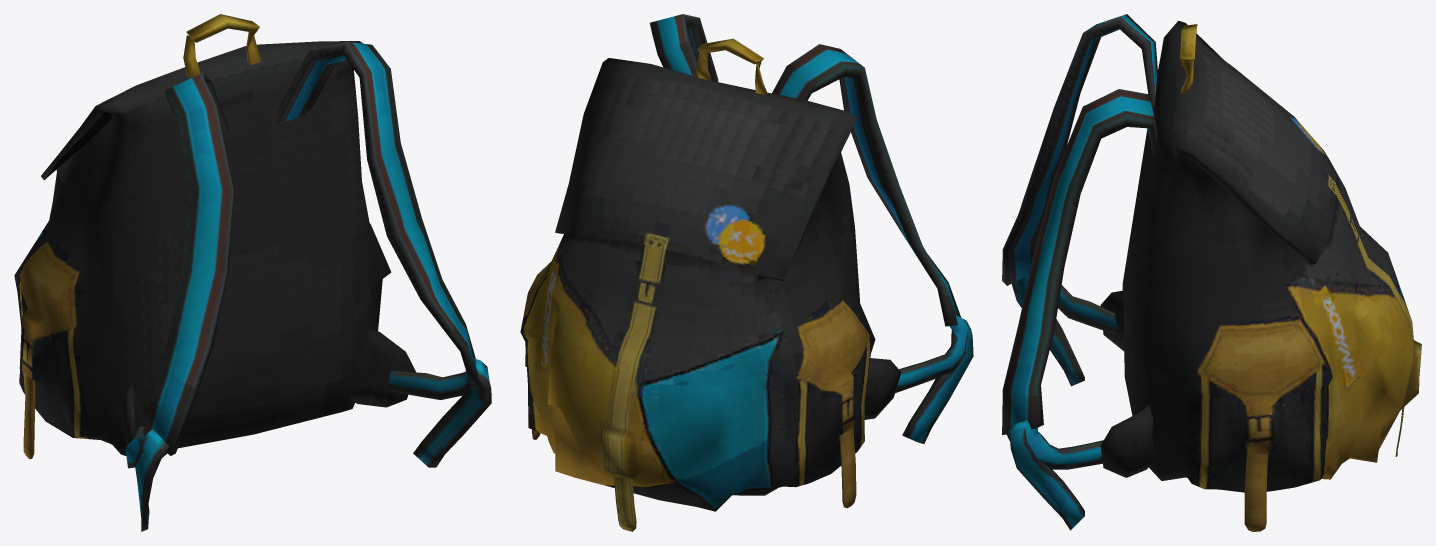
Rendered from backpack.glb.
3 views of the same model, side by side, from view 1: azimuth 30°, elevation 25°; view 2: azimuth 150°, elevation 25°; view 3: azimuth 270°, elevation 25° (orthographic). The views are drawn at different scales.
Visible parts, largest first — view 1: Model; view 2: Model; view 3: Model.
Part boxes in pixels (box(x1,y1,x2,y2)): Model: box(14, 14, 491, 531); Model: box(520, 14, 973, 531); Model: box(1002, 14, 1421, 531).
Size of the model in its own units: 0.338 by 0.4115 by 0.3649.
1 material, 1 textured.
